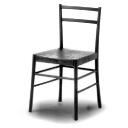chair_success: (18, 0, 110, 123)
